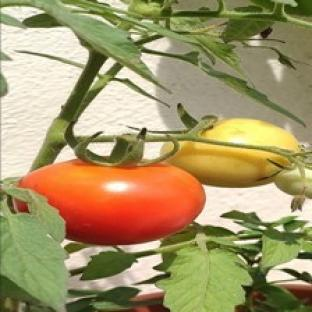Tomato: (20, 161, 204, 245), (166, 141, 289, 188), (275, 169, 311, 199)
